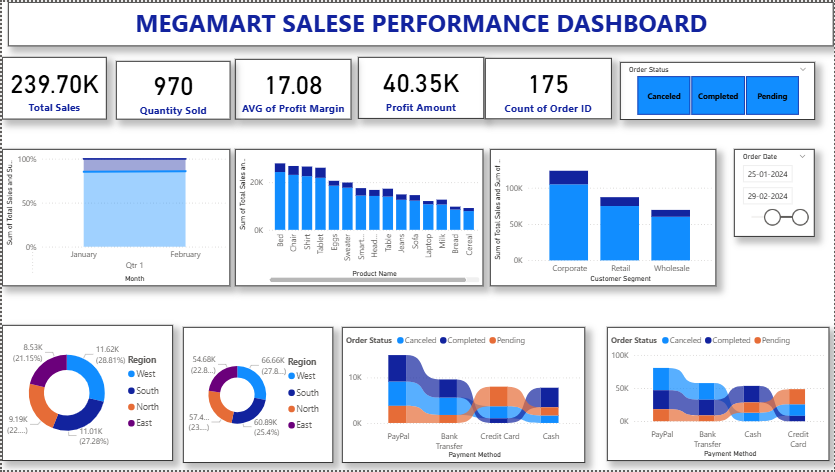

What the dashboard file says about the page in this screenshot:
{"tool":"powerbi","page":{"name":"Page 1","canvas":[1280,720],"ordinal":0},"visuals":[{"type":"textbox","box":[9.9,0,1269.9,68.1],"z":0},{"type":"card","fields":{"Values":["Sum(Sales.Total Sales)"]},"box":[0,85.1,161.2,95.8],"z":1000},{"type":"card","fields":{"Values":["Sum(Sales.Profit Amount)"]},"box":[547.3,84.5,193.6,95.5],"z":2000},{"type":"card","fields":{"Values":["Avg(Sales.Profit Margin (%))"]},"box":[359.1,87.3,179.1,92.7],"z":3000},{"type":"card","fields":{"Values":["Sum(Sales.Quantity Sold)"]},"box":[174.6,90.4,176.4,90.4],"z":4000},{"type":"hundredPercentStackedAreaChart","fields":{"Category":["Sales.Order Date.Variation.Date Hierarchy.Quarter","Sales.Order Date.Variation.Date Hierarchy.Month"],"Y":["Sum(Sales.Total Sales)","Sum(Sales.Profit Amount)"]},"box":[0,226.6,351,211.3],"z":5000},{"type":"columnChart","fields":{"Category":["Sales.Product Name"],"Y":["Sum(Sales.Total Sales)","Sum(Sales.Profit Amount)"]},"box":[359.1,226.6,382.4,211.3],"z":6000},{"type":"donutChart","fields":{"Category":["Sales.Region"],"Y":["Sum(Sales.Profit Amount)"]},"box":[0,497,263.3,208.7],"z":7000},{"type":"donutChart","fields":{"Category":["Sales.Region"],"Y":["Sum(Sales.Total Sales)"]},"box":[278.5,499.7,231,208.7],"z":8000},{"type":"slicer","fields":{"Values":["Sales.Order Status"]},"box":[950,91.8,300,89.1],"z":9000},{"type":"slicer","fields":{"Values":["Sales.Order Date"]},"box":[1126,226.7,123.7,135.1],"z":10000},{"type":"ribbonChart","fields":{"Category":["Sales.Payment Method"],"Y":["Sum(Sales.Total Sales)"],"Series":["Sales.Order Status"]},"box":[931.3,499.7,342.1,206],"z":11000},{"type":"ribbonChart","fields":{"Category":["Sales.Payment Method"],"Series":["Sales.Order Status"],"Y":["Sum(Sales.Profit Amount)"]},"box":[523,499.7,374.3,208.7],"z":12000},{"type":"columnChart","fields":{"Y":["Sum(Sales.Total Sales)","Sum(Sales.Profit Amount)"],"Category":["Sales.Customer Segment"]},"box":[751.3,226.6,348.4,211.3],"z":13000},{"type":"card","fields":{"Values":["CountNonNull(Sales.Order ID)"]},"box":[742.7,86.4,194.5,93.6],"z":14000}]}

Visuals, with their boxes in screenshot pixels (x1, y1, x2, y2), scaled from the page's 1280x720 canvas onto the 835x472 screenshot:
textbox: x1=6, y1=0, x2=834, y2=45
card - Sum(Sales.Total Sales): x1=0, y1=56, x2=105, y2=119
card - Sum(Sales.Profit Amount): x1=357, y1=55, x2=483, y2=118
card - Avg(Sales.Profit Margin (%)): x1=234, y1=57, x2=351, y2=118
card - Sum(Sales.Quantity Sold): x1=114, y1=59, x2=229, y2=119
hundredPercentStackedAreaChart - Sales.Order Date.Variation.Date Hierarchy.Quarter x Sales.Order Date.Variation.Date Hierarchy.Month: x1=0, y1=149, x2=229, y2=287
columnChart - Sales.Product Name x Sum(Sales.Total Sales): x1=234, y1=149, x2=484, y2=287
donutChart - Sales.Region x Sum(Sales.Profit Amount): x1=0, y1=326, x2=172, y2=463
donutChart - Sales.Region x Sum(Sales.Total Sales): x1=182, y1=328, x2=332, y2=464
slicer - Sales.Order Status: x1=620, y1=60, x2=815, y2=119
slicer - Sales.Order Date: x1=735, y1=149, x2=815, y2=237
ribbonChart - Sales.Payment Method x Sum(Sales.Total Sales): x1=608, y1=328, x2=831, y2=463
ribbonChart - Sales.Payment Method x Sales.Order Status: x1=341, y1=328, x2=585, y2=464
columnChart - Sum(Sales.Total Sales) x Sum(Sales.Profit Amount): x1=490, y1=149, x2=717, y2=287
card - CountNonNull(Sales.Order ID): x1=484, y1=57, x2=611, y2=118
